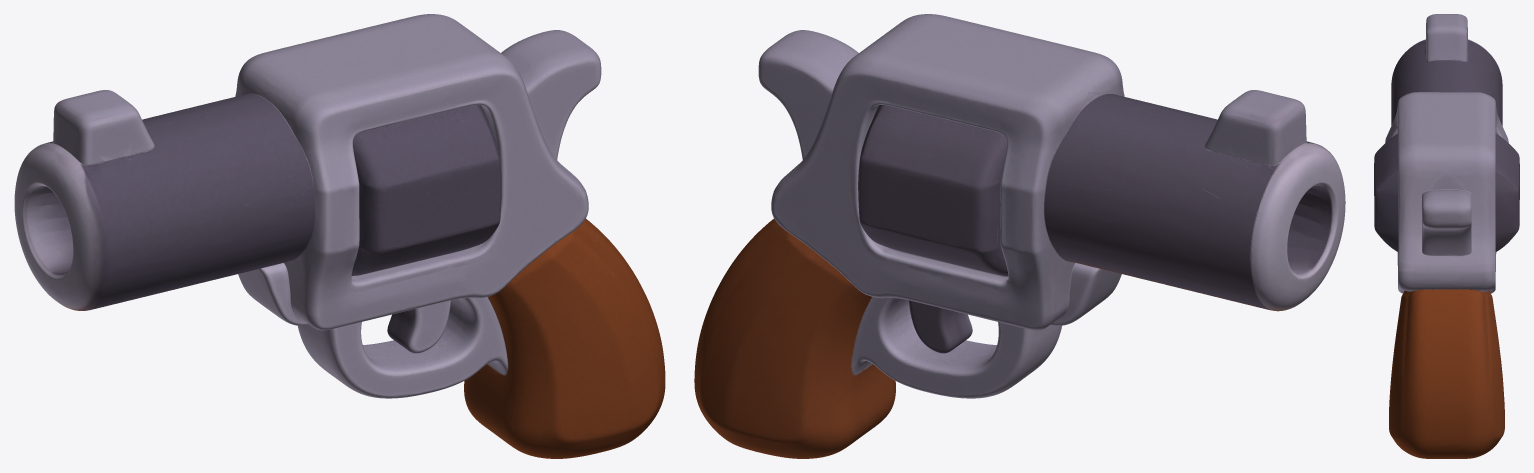
Rendered from dusty_waffe_original.glb.
3 renders of one model, left to right at view 1: azimuth 30°, elevation 25°; view 2: azimuth 150°, elevation 25°; view 3: azimuth 270°, elevation 25°, orthographic. The views are drawn at different scales.
Size of the model in its own units: 1.9 by 1.36 by 0.6376.
Materials: 1 (1 with a texture image).
